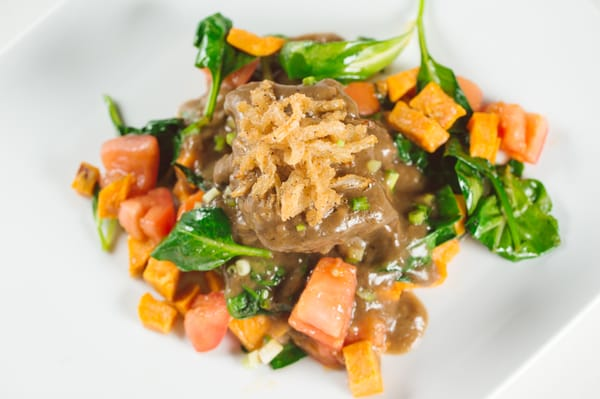curry: (450, 152, 562, 261), (277, 14, 418, 82), (149, 205, 275, 273)
